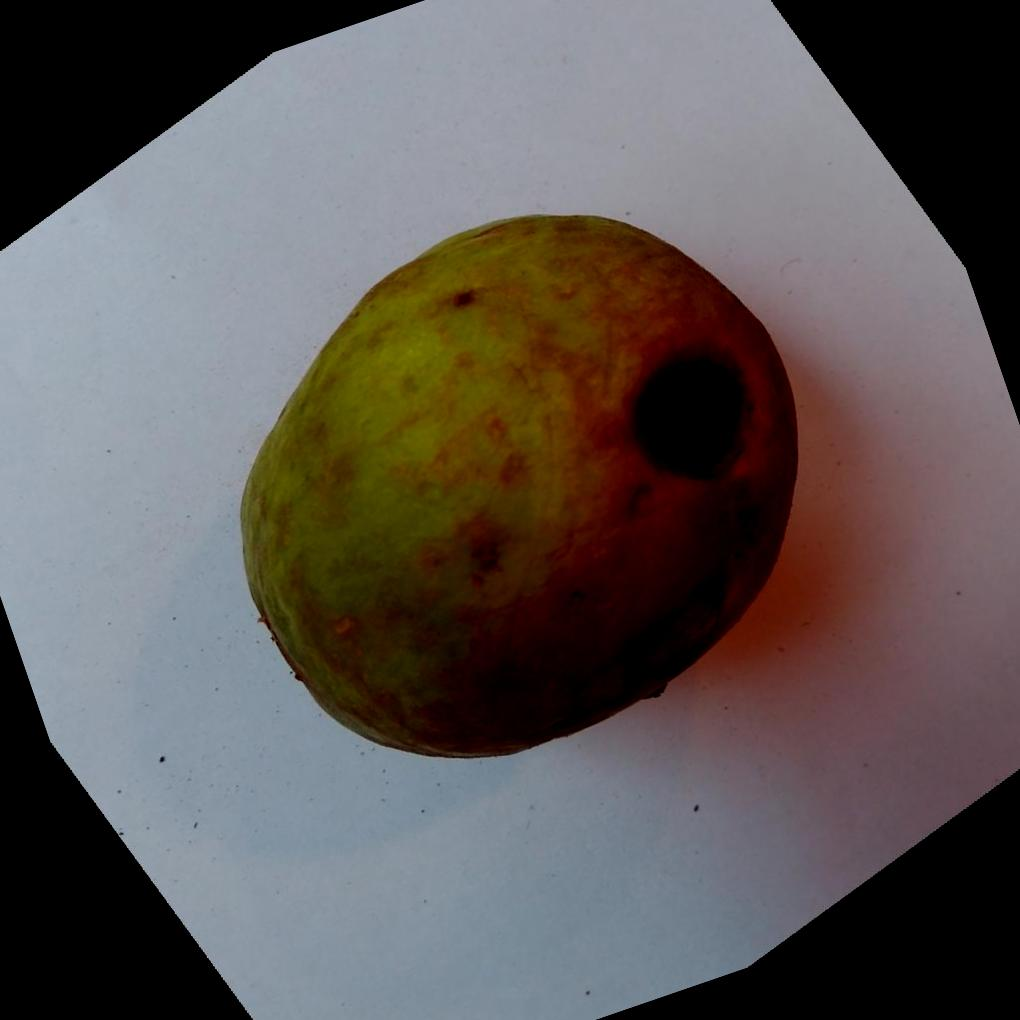FreshOrange: (238, 215, 801, 765)
